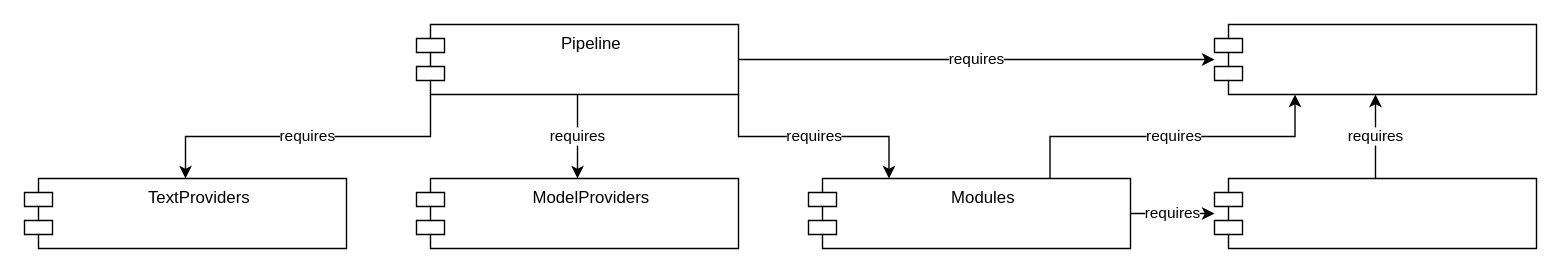
Image size: 1561x273. Some labels were removed from this diagram. The centre of each missing label's shape, as x and y in pixels:
"AgentsAndExtractors" goes at point 1374,212.
"DataStructures" goes at point 1374,58.
